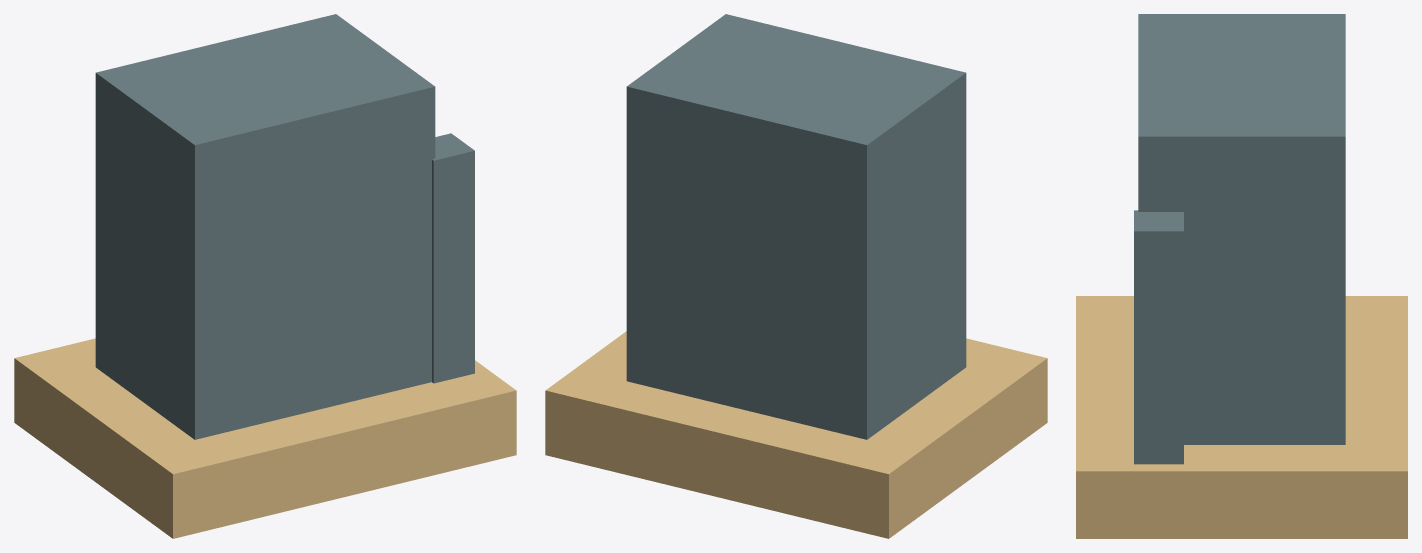
The model's file is soil-sensor-station.source.glb.
The picture shows the model from 3 angles, left to right: view 1: azimuth 30°, elevation 25°; view 2: azimuth 150°, elevation 25°; view 3: azimuth 270°, elevation 25°; orthographic projection. The views are drawn at different scales.
Parts seen in each view (by area): view 1: soil-sensor-station-cabinet-mesh, soil-sensor-station-base-mesh, soil-sensor-station-probe-mesh; view 2: soil-sensor-station-cabinet-mesh, soil-sensor-station-base-mesh; view 3: soil-sensor-station-cabinet-mesh, soil-sensor-station-base-mesh, soil-sensor-station-probe-mesh.
Part boxes in pixels (left/top/right/bottom): soil-sensor-station-cabinet-mesh: left=95, top=14, right=435, bottom=439; soil-sensor-station-base-mesh: left=14, top=338, right=516, bottom=538; soil-sensor-station-probe-mesh: left=432, top=133, right=474, bottom=383; soil-sensor-station-cabinet-mesh: left=626, top=14, right=966, bottom=439; soil-sensor-station-base-mesh: left=545, top=331, right=1047, bottom=538; soil-sensor-station-cabinet-mesh: left=1138, top=14, right=1345, bottom=444; soil-sensor-station-base-mesh: left=1076, top=296, right=1407, bottom=538; soil-sensor-station-probe-mesh: left=1134, top=210, right=1183, bottom=464.
Bounding box in the file's own units: 1 × 1 × 0.8.
